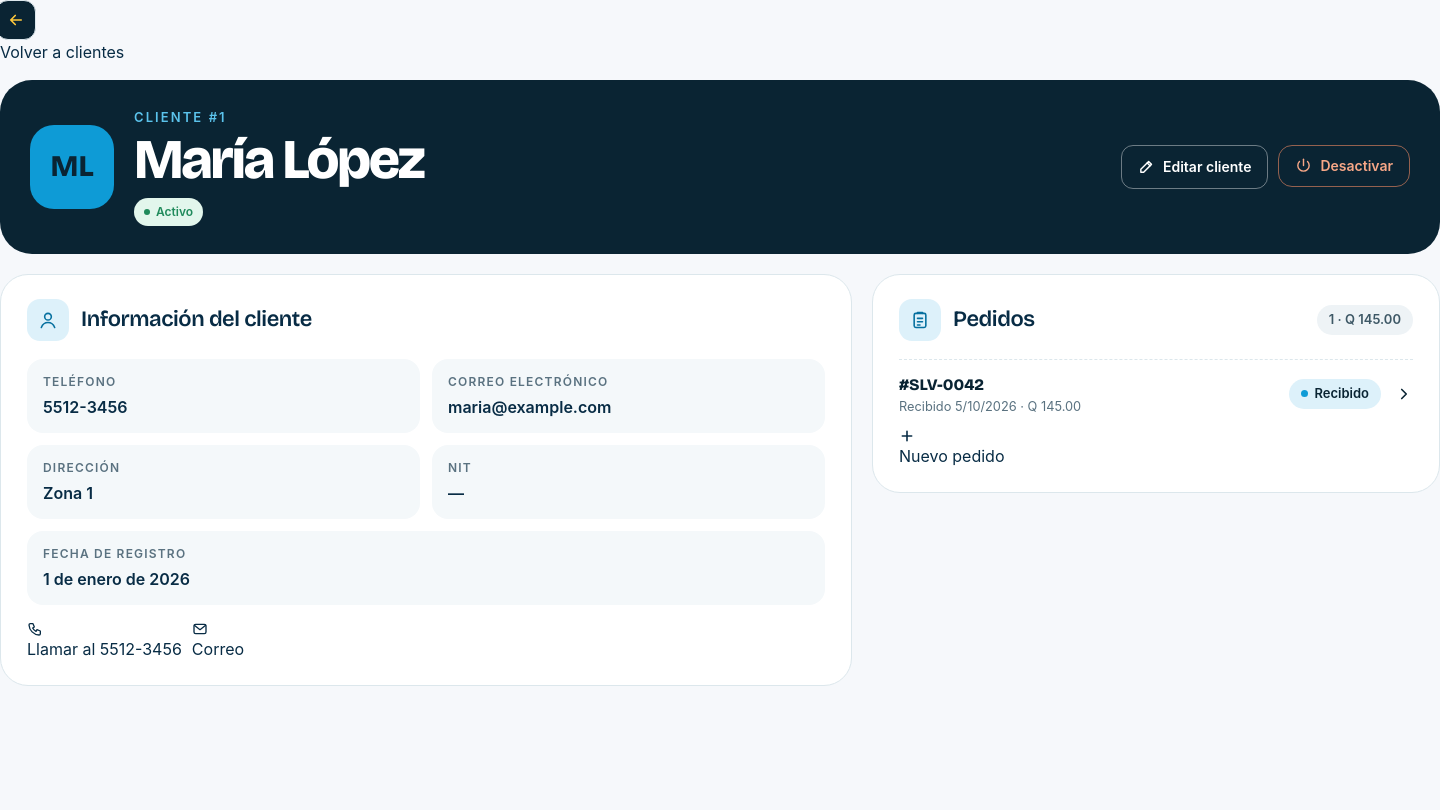
Test: ClientDetailPage › edita todos los campos soportados por la API
Click the button "Editar cliente". click: [1195, 167]
box: [1121,145,1268,189]
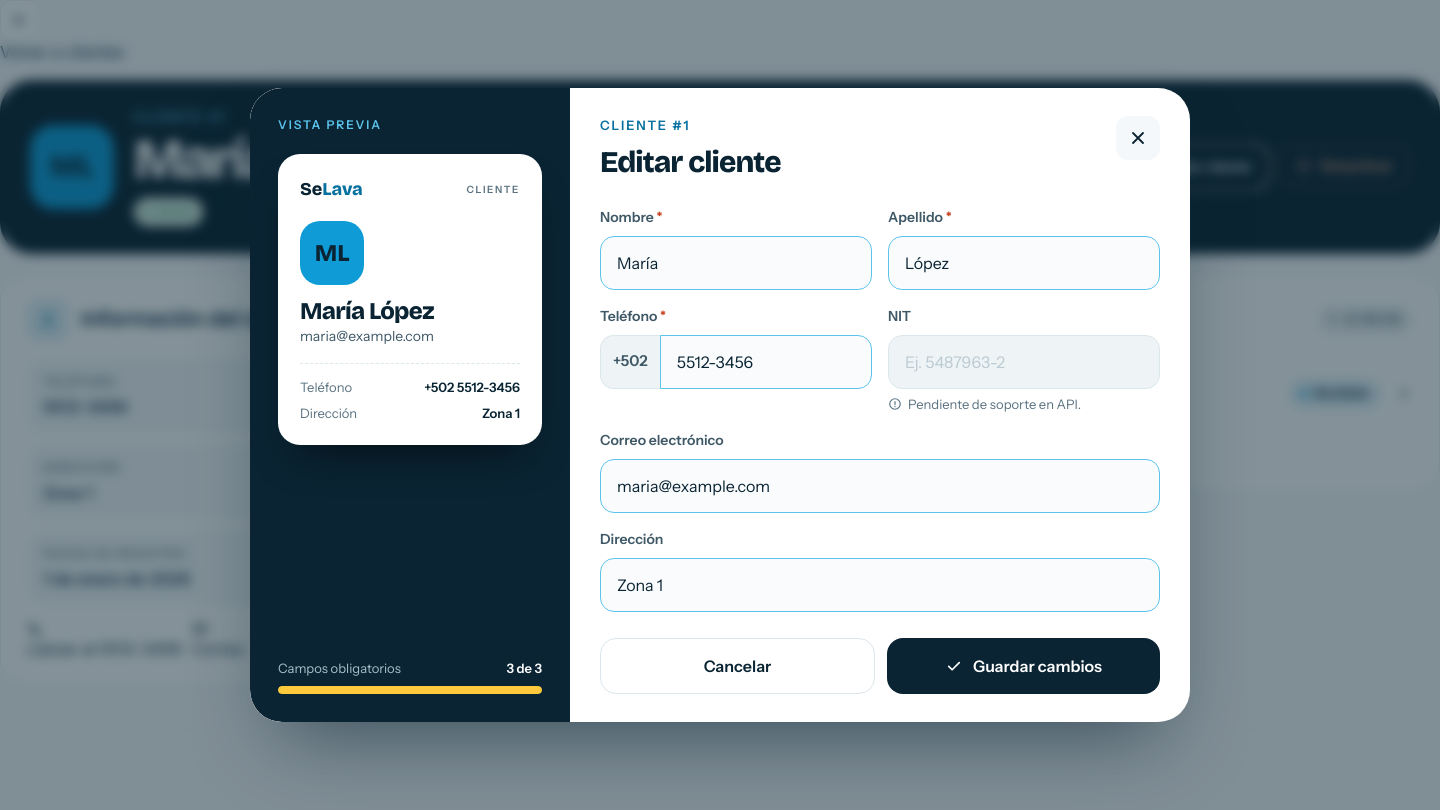
Type "5555-9999" into the field labelled "Teléfono *". click: [766, 362]
box: [660,334,872,388]
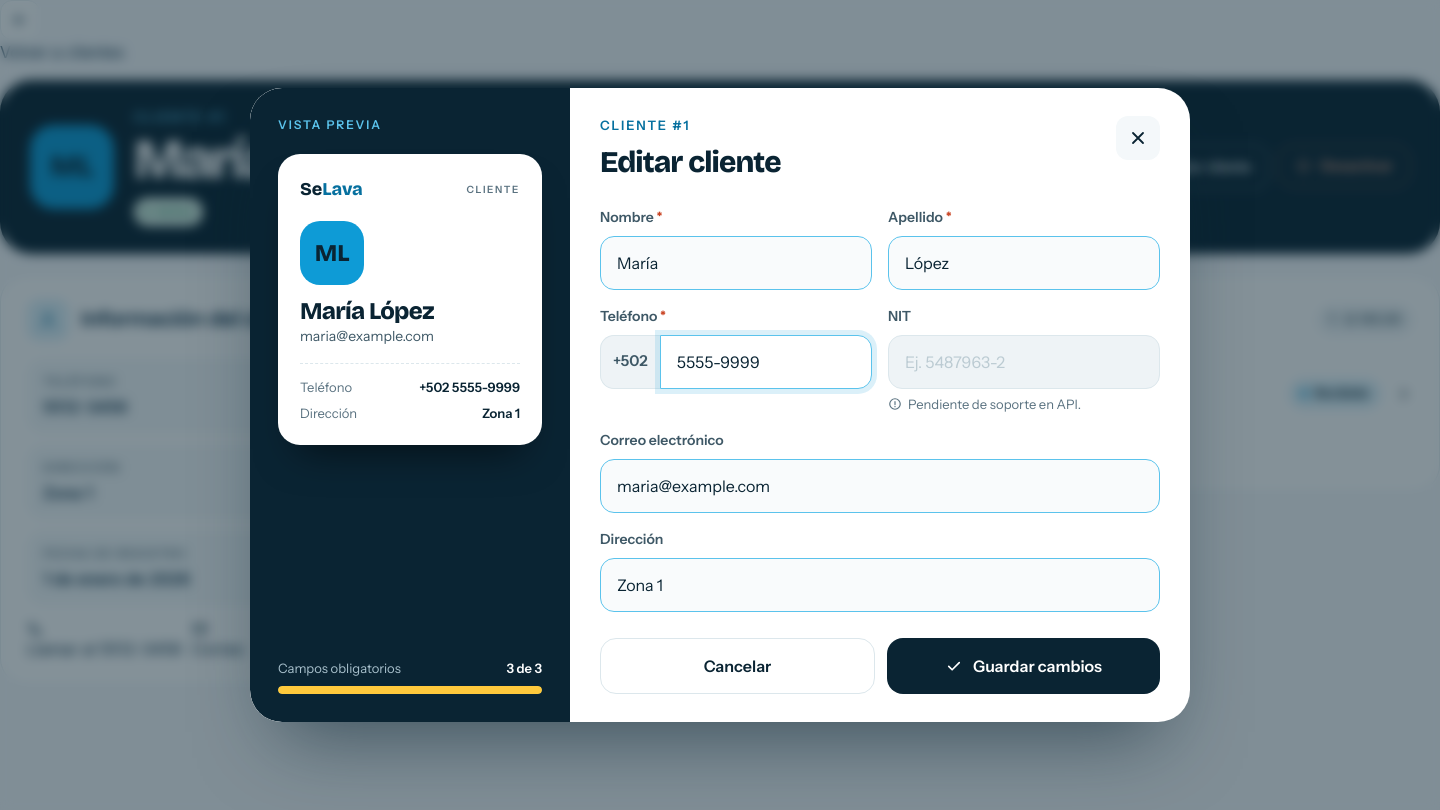
Click the button "Guardar cambios". click: [1024, 666]
box: [887,638,1160,694]
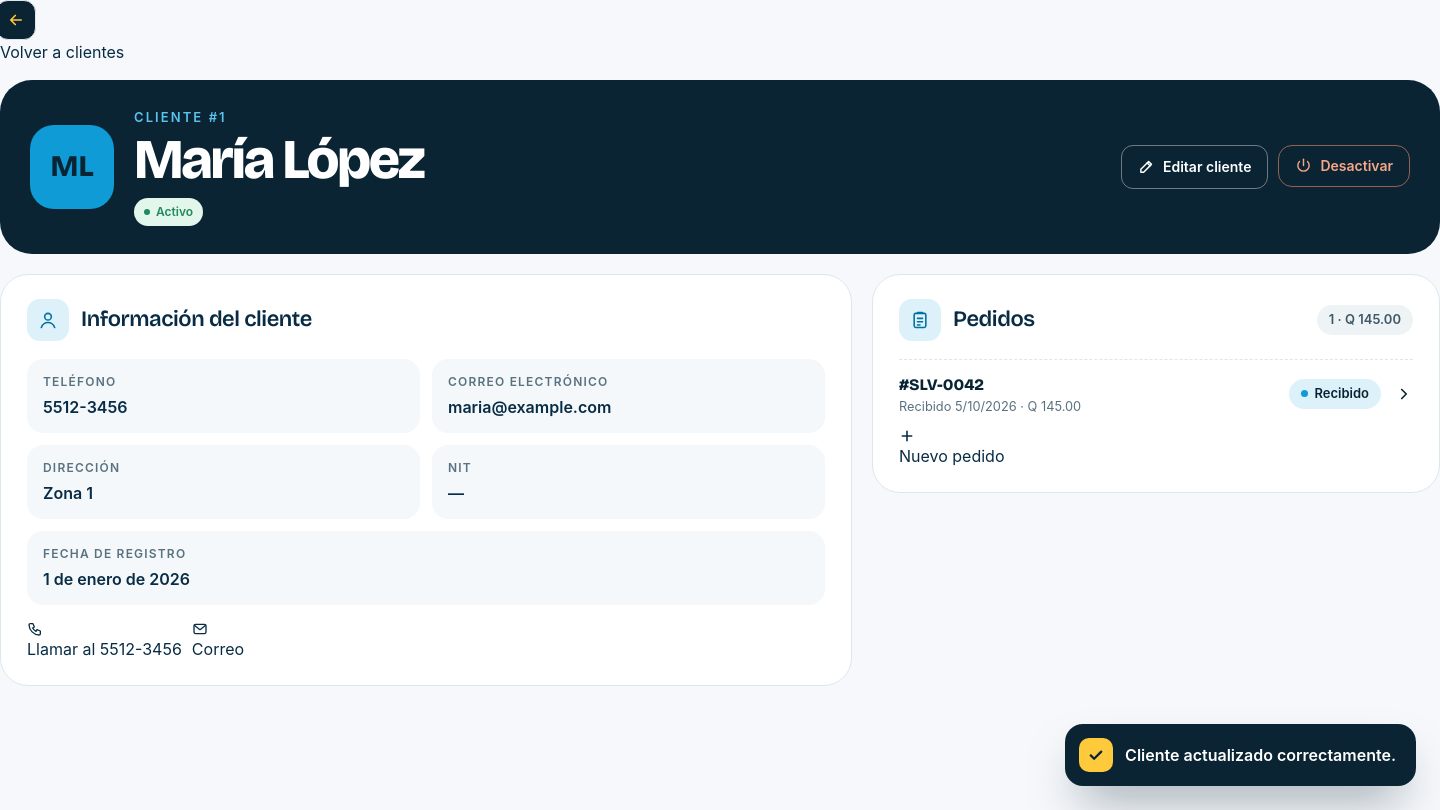
Check: the text "Cliente actualizado correctamente." is shown, box [1065,724,1416,786]
